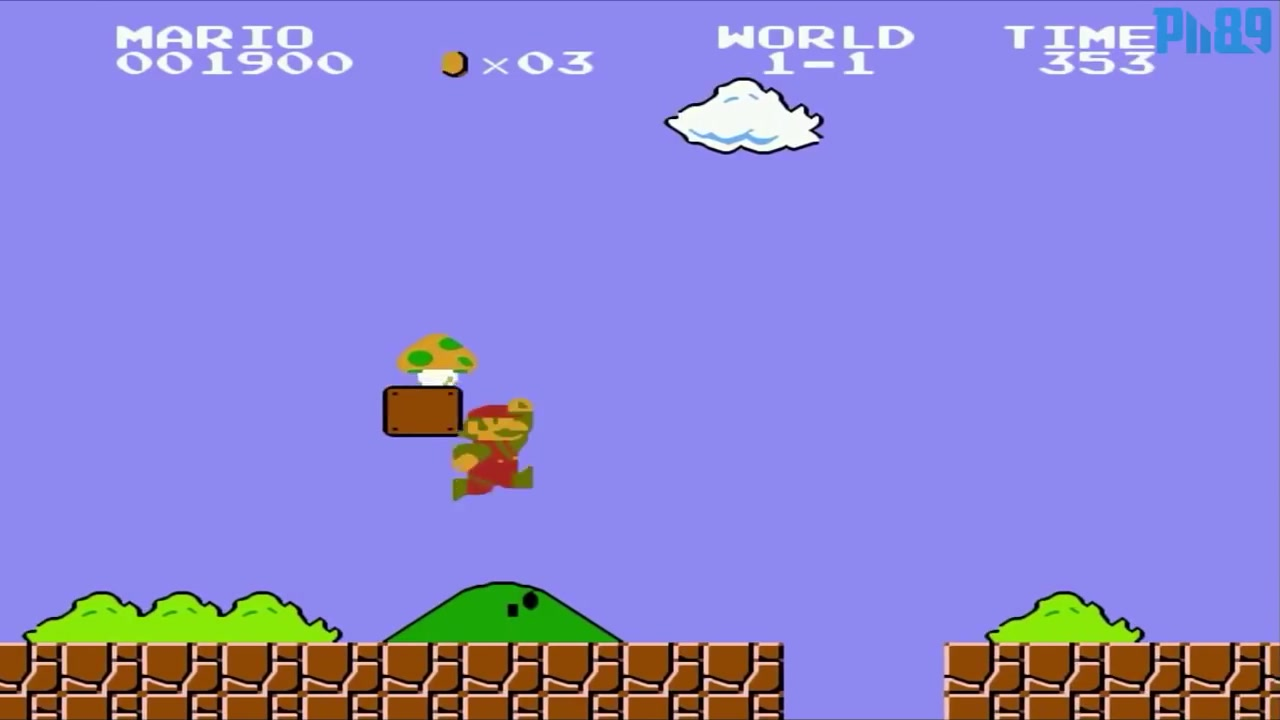mario: (447, 394, 541, 506)
